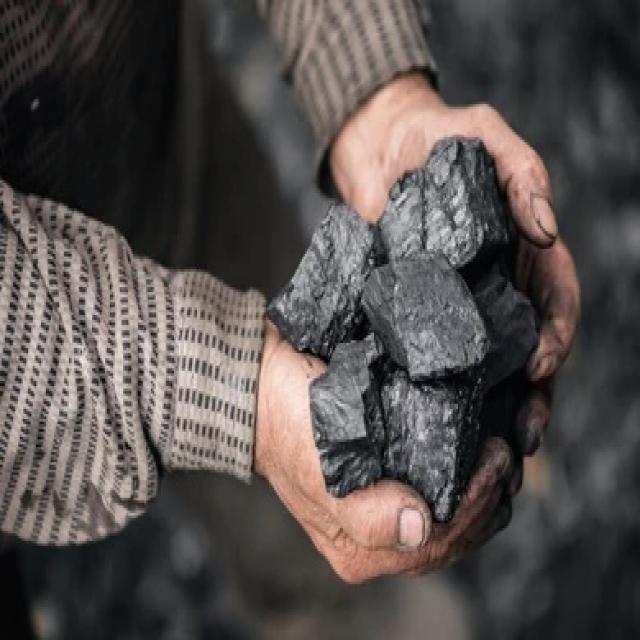Sedimentary: (266, 165, 546, 498)
